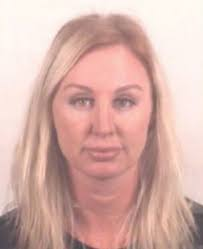white_female: (64, 67, 143, 165)
